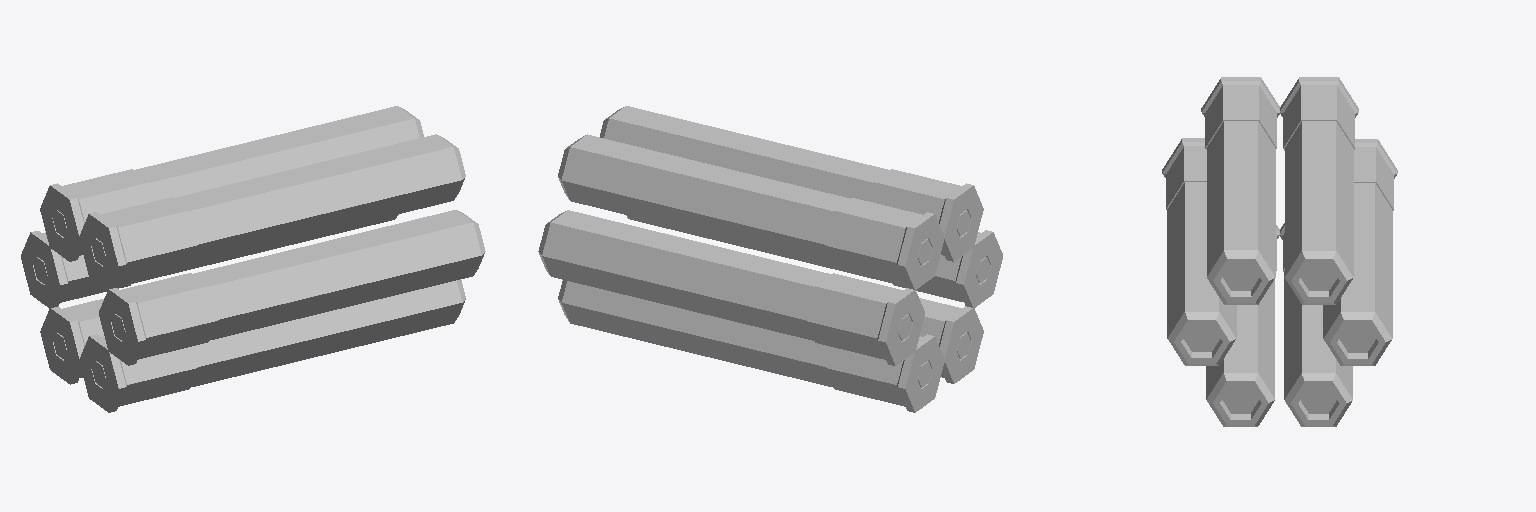
The model's file is 44magnum.obj.
3 views of the same model, side by side, from view 1: azimuth 30°, elevation 25°; view 2: azimuth 150°, elevation 25°; view 3: azimuth 270°, elevation 25° (orthographic).
Visible parts, largest first — view 1: bulletModel_6, bulletModel_1, bulletModel_5, bulletModel_2, bulletModel_3, bulletModel_4; view 2: bulletModel_3, bulletModel_2, bulletModel_4, bulletModel_1, bulletModel_6, bulletModel_5; view 3: bulletModel_2, bulletModel_1, bulletModel_6, bulletModel_3, bulletModel_4, bulletModel_5.
Boxes of the visible parts, x1,y1,x2,y2 form: bulletModel_6: [99, 210, 485, 365]; bulletModel_1: [79, 134, 465, 289]; bulletModel_5: [79, 279, 465, 412]; bulletModel_2: [40, 106, 423, 261]; bulletModel_3: [21, 214, 398, 308]; bulletModel_4: [40, 299, 103, 384]; bulletModel_3: [538, 210, 924, 365]; bulletModel_2: [558, 134, 944, 289]; bulletModel_4: [558, 280, 944, 412]; bulletModel_1: [600, 106, 983, 261]; bulletModel_6: [626, 215, 1002, 307]; bulletModel_5: [919, 298, 983, 383]; bulletModel_2: [1280, 77, 1358, 304]; bulletModel_1: [1201, 77, 1279, 304]; bulletModel_6: [1162, 138, 1236, 365]; bulletModel_3: [1323, 139, 1397, 365]; bulletModel_4: [1280, 223, 1352, 426]; bulletModel_5: [1206, 225, 1279, 426].
Bounding box in the file's own units: 1.5 × 0.7502 × 0.8654.